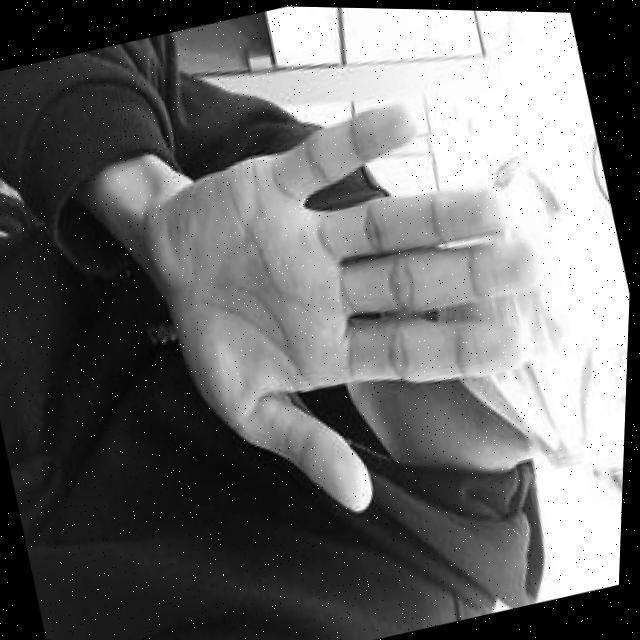no-gloves: (118, 68, 604, 549)
